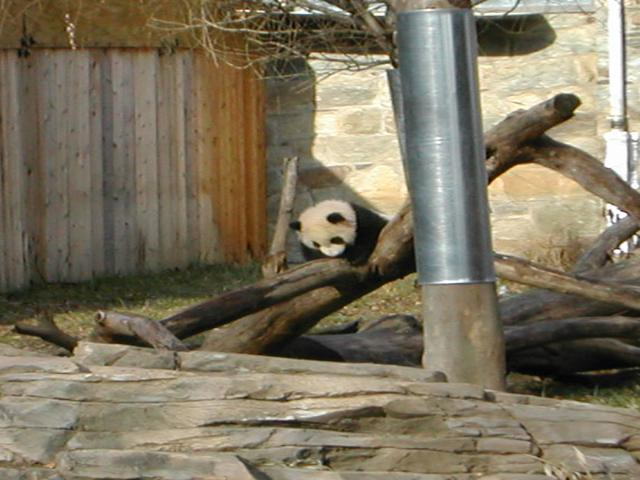panda: (285, 191, 404, 277)
